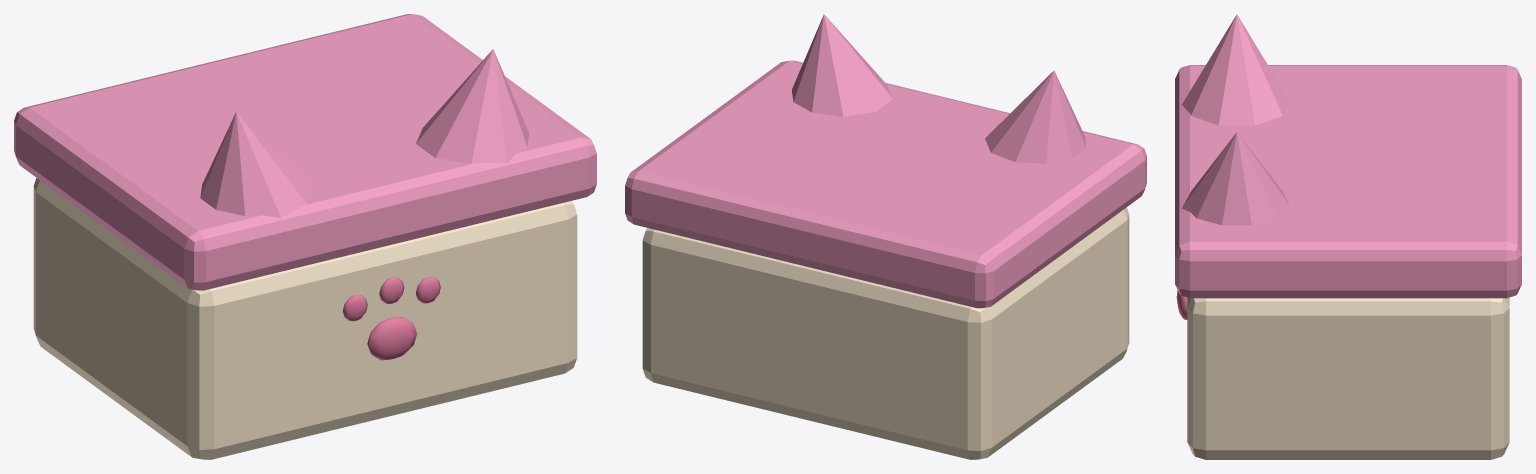
The model's file is cat_cafe.glb.
3 renders of one model, left to right at view 1: azimuth 30°, elevation 25°; view 2: azimuth 150°, elevation 25°; view 3: azimuth 270°, elevation 25°, orthographic. The views are drawn at different scales.
Visible parts, largest first — view 1: cat_cafe_pink, cat_cafe_body, cat_cafe_deco; view 2: cat_cafe_pink, cat_cafe_body; view 3: cat_cafe_pink, cat_cafe_body.
Part boxes in pixels (<box>): cat_cafe_pink: <box>14,14,596,290</box>; cat_cafe_body: <box>33,178,577,459</box>; cat_cafe_deco: <box>343,277,440,360</box>; cat_cafe_pink: <box>625,14,1146,308</box>; cat_cafe_body: <box>642,207,1129,459</box>; cat_cafe_pink: <box>1175,14,1521,298</box>; cat_cafe_body: <box>1187,297,1509,459</box>.
Bounding box in the file's own units: 0.36 × 0.2718 × 0.28.
